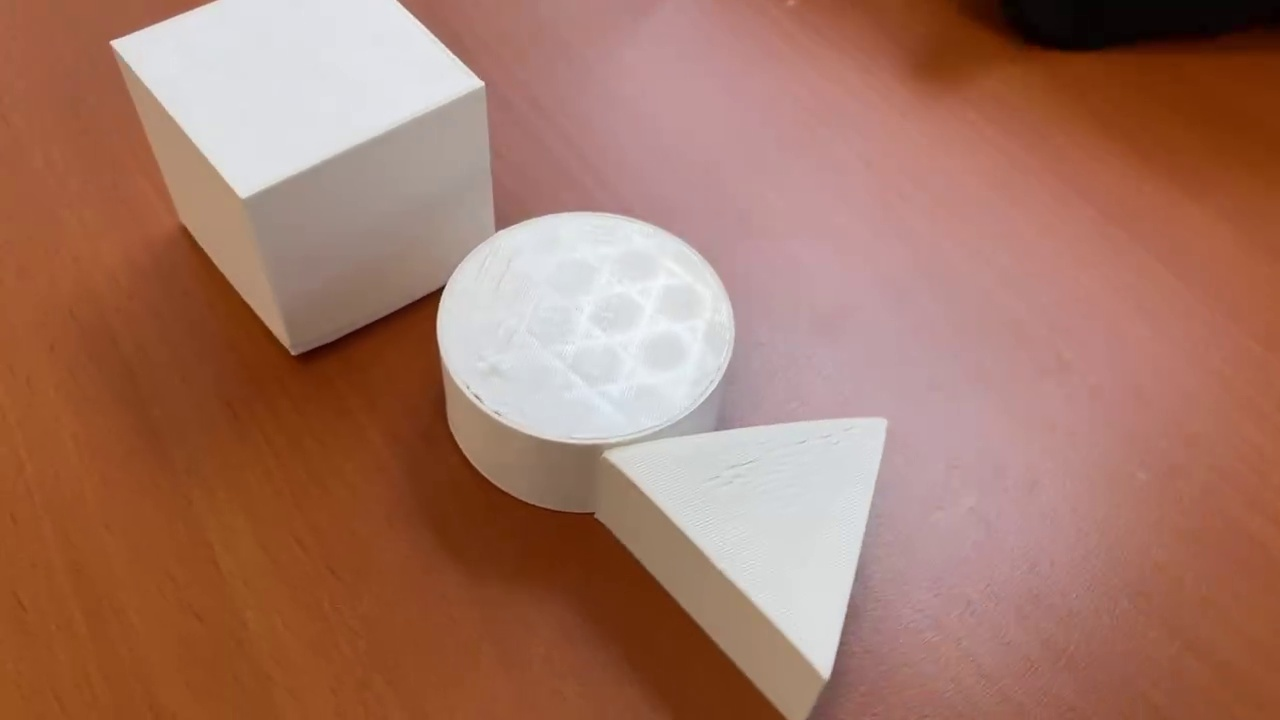Cube: (107, 1, 501, 356)
Cylinder_short: (437, 209, 736, 515)
Triangle_short: (594, 415, 887, 720)
